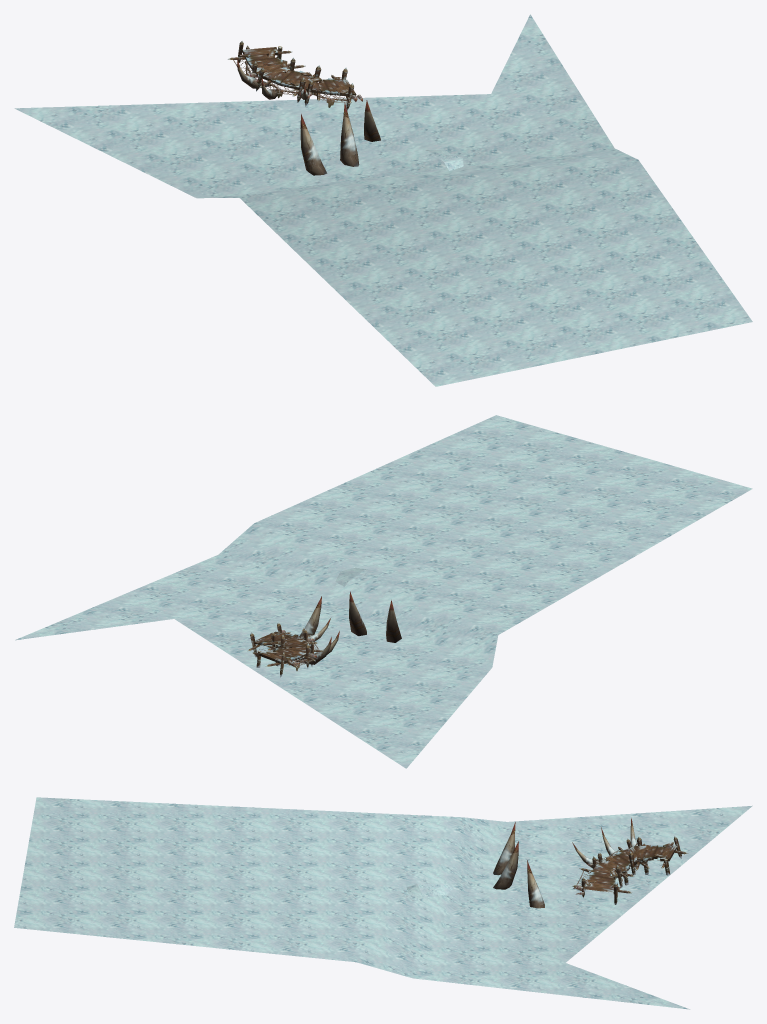
Rendered from section05_guanka08.FBX.
3 views of the same model, one above another, from view 1: azimuth 30°, elevation 25°; view 2: azimuth 150°, elevation 25°; view 3: azimuth 270°, elevation 25° (orthographic). The views are drawn at different scales.
Visible parts, largest first — view 1: section05_guanka08; view 2: section05_guanka08; view 3: section05_guanka08.
Boxes of the visible parts, bbox=[...] form: section05_guanka08: bbox=[14, 14, 752, 386]; section05_guanka08: bbox=[15, 415, 752, 768]; section05_guanka08: bbox=[14, 797, 752, 1009].
Size of the model in its own units: 121 by 183 by 19.31.
